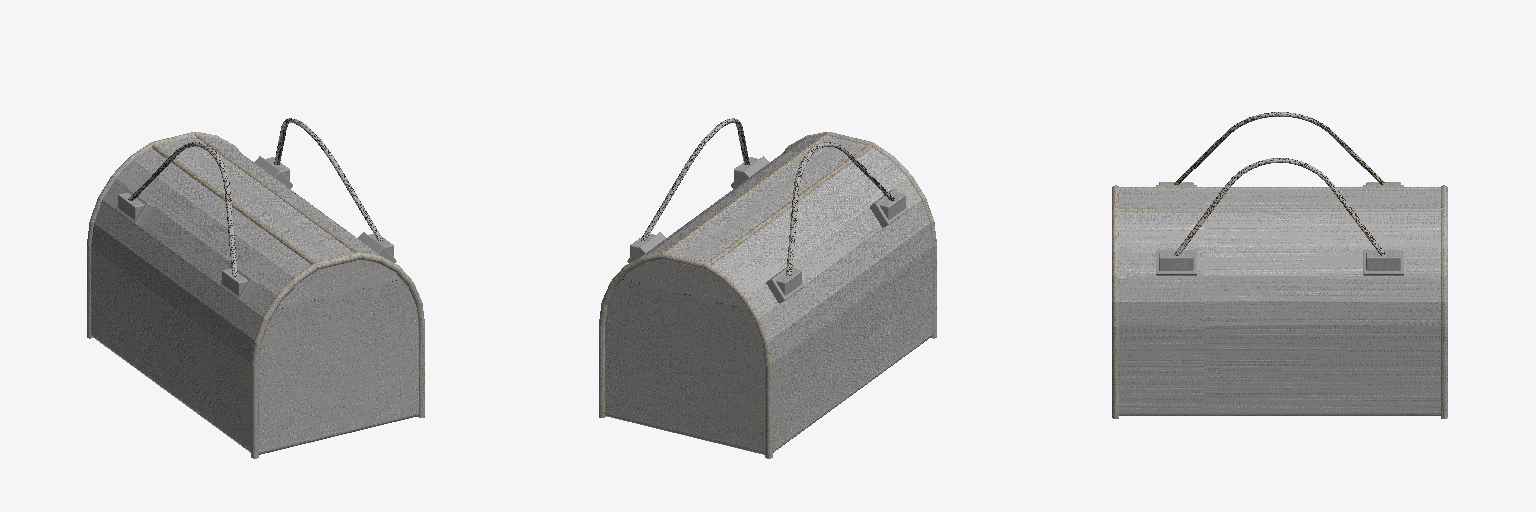
3 renders of one model, left to right at view 1: azimuth 30°, elevation 25°; view 2: azimuth 150°, elevation 25°; view 3: azimuth 270°, elevation 25°, orthographic.
Parts seen in each view (by area): view 1: mesh1_mesh1-geometry; view 2: mesh1_mesh1-geometry; view 3: mesh1_mesh1-geometry.
Part boxes in pixels (left/top/right/bottom): mesh1_mesh1-geometry: left=87, top=118, right=424, bottom=458; mesh1_mesh1-geometry: left=599, top=118, right=936, bottom=458; mesh1_mesh1-geometry: left=1112, top=112, right=1447, bottom=418.
Size of the model in its own units: 0.4224 by 0.563 by 0.7103.
6 materials, 1 textured.